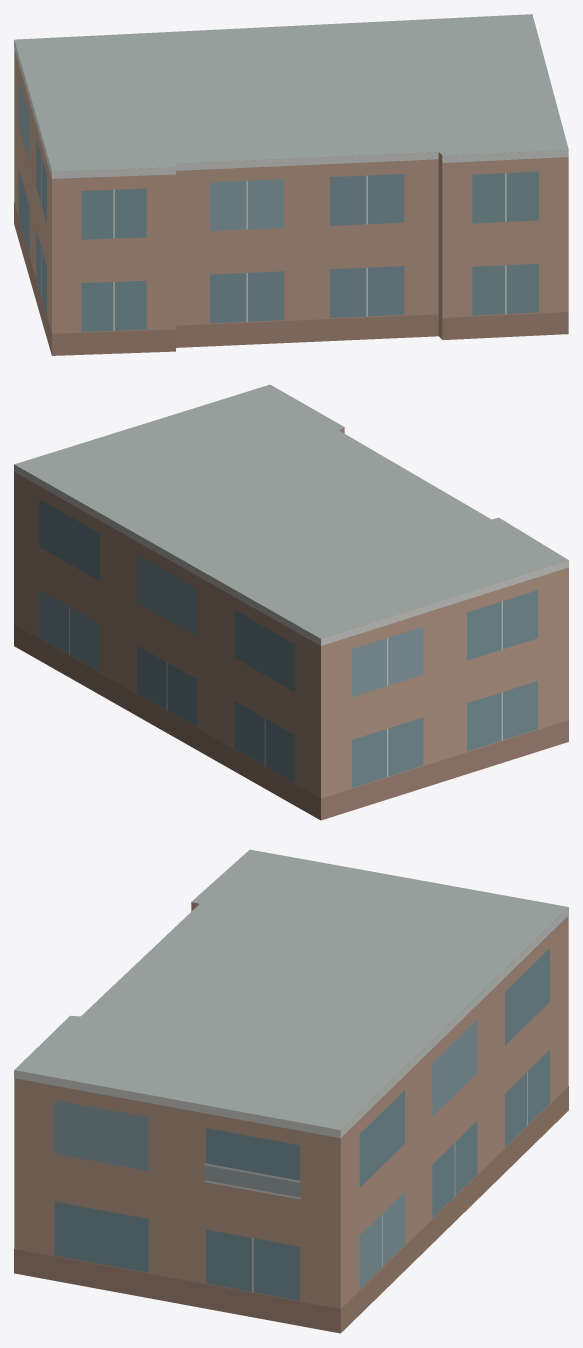
File: survey-upis-32656930.glb
The picture shows the model from 3 angles, top to bottom: view 1: azimuth 30°, elevation 25°; view 2: azimuth 150°, elevation 25°; view 3: azimuth 270°, elevation 25°; orthographic projection. The views are drawn at different scales.
Parts seen in each view (by area): view 1: survey-upis-32656930.tmp; view 2: survey-upis-32656930.tmp; view 3: survey-upis-32656930.tmp.
Boxes of the visible parts, x1=… form: survey-upis-32656930.tmp: x1=14, y1=14, x2=568, y2=355; survey-upis-32656930.tmp: x1=14, y1=384, x2=568, y2=820; survey-upis-32656930.tmp: x1=14, y1=849, x2=568, y2=1333.
Bounding box in the file's own units: 18.08 × 6.1 × 15.1.
